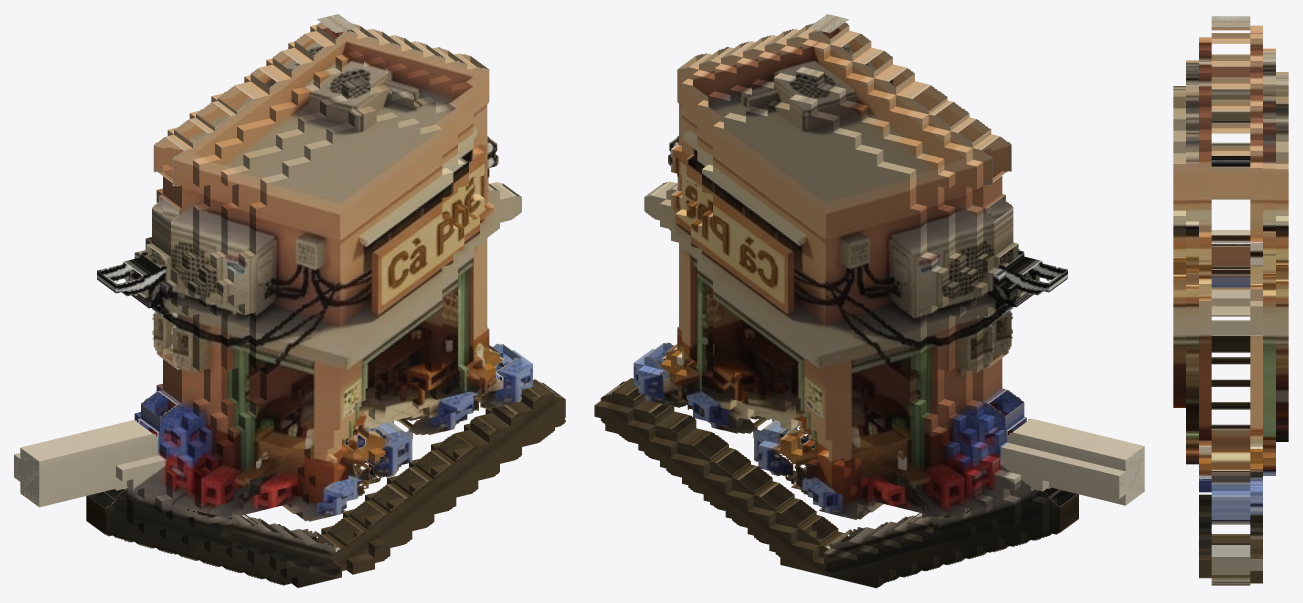
File: house_2.glb
3 views of the same model, side by side, from view 1: azimuth 30°, elevation 25°; view 2: azimuth 150°, elevation 25°; view 3: azimuth 270°, elevation 25° (orthographic).
Visible parts, largest first — view 1: house_2; view 2: house_2; view 3: house_2.
Boxes of the visible parts, <box> form: house_2: <box>14,14,565,588</box>; house_2: <box>594,14,1144,588</box>; house_2: <box>1173,16,1288,585</box>.
Size of the model in its own units: 48 by 47 by 9.
1 material, 1 textured.
